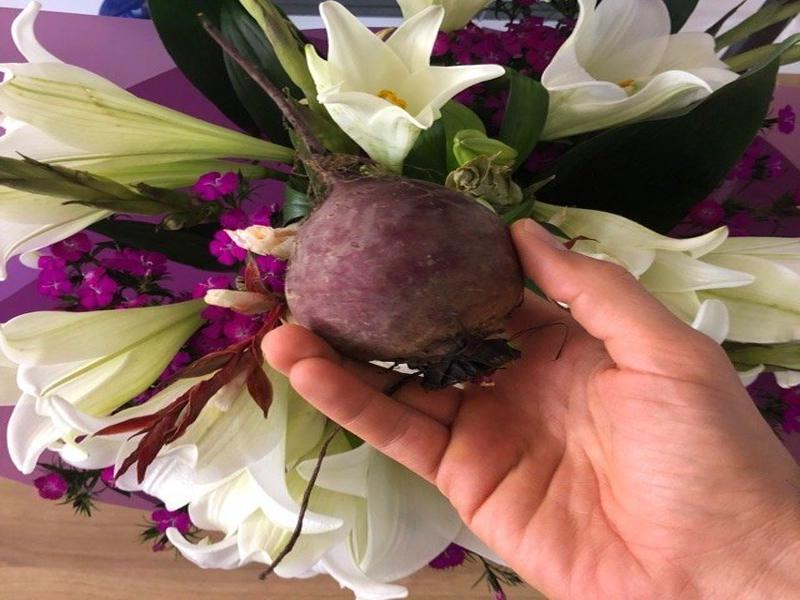Beet: (195, 15, 523, 387)
